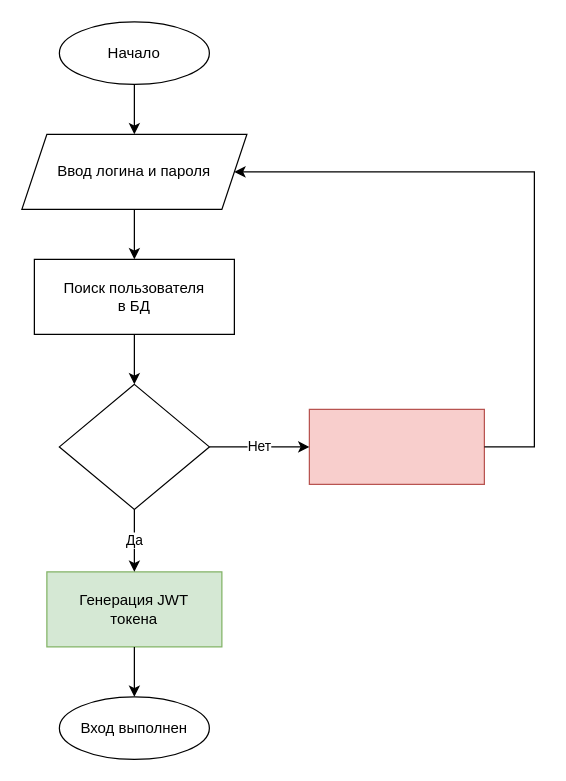
This 566x781 diagram has some shape labels left out. Each missing label, with the centre of its shape:
Ошибка 401 (Доступ запрещен): (x=396, y=446)
Пароль верный?: (x=133, y=446)
